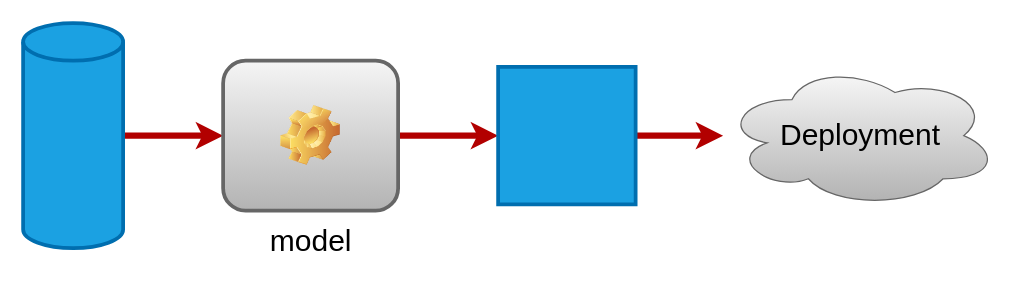
This 1020x283 diagram has some shape labels left out. The shapes that lost their labels are listed below. From the top down, each one's box as (x1, y1, x2, y2) in pixels, then its label:
(21, 21, 124, 249): Data
(496, 64, 637, 206): Insights
